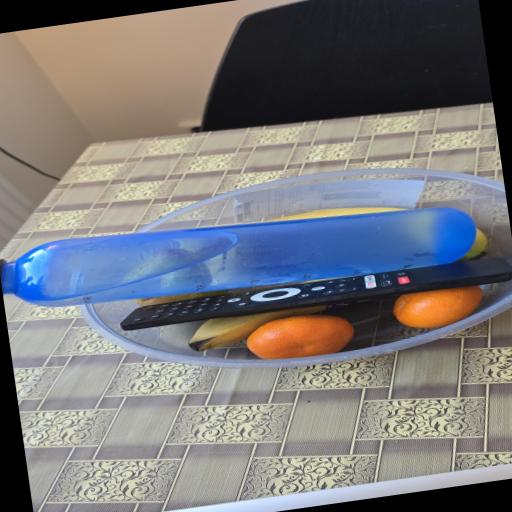bottle: (0, 182, 487, 316)
